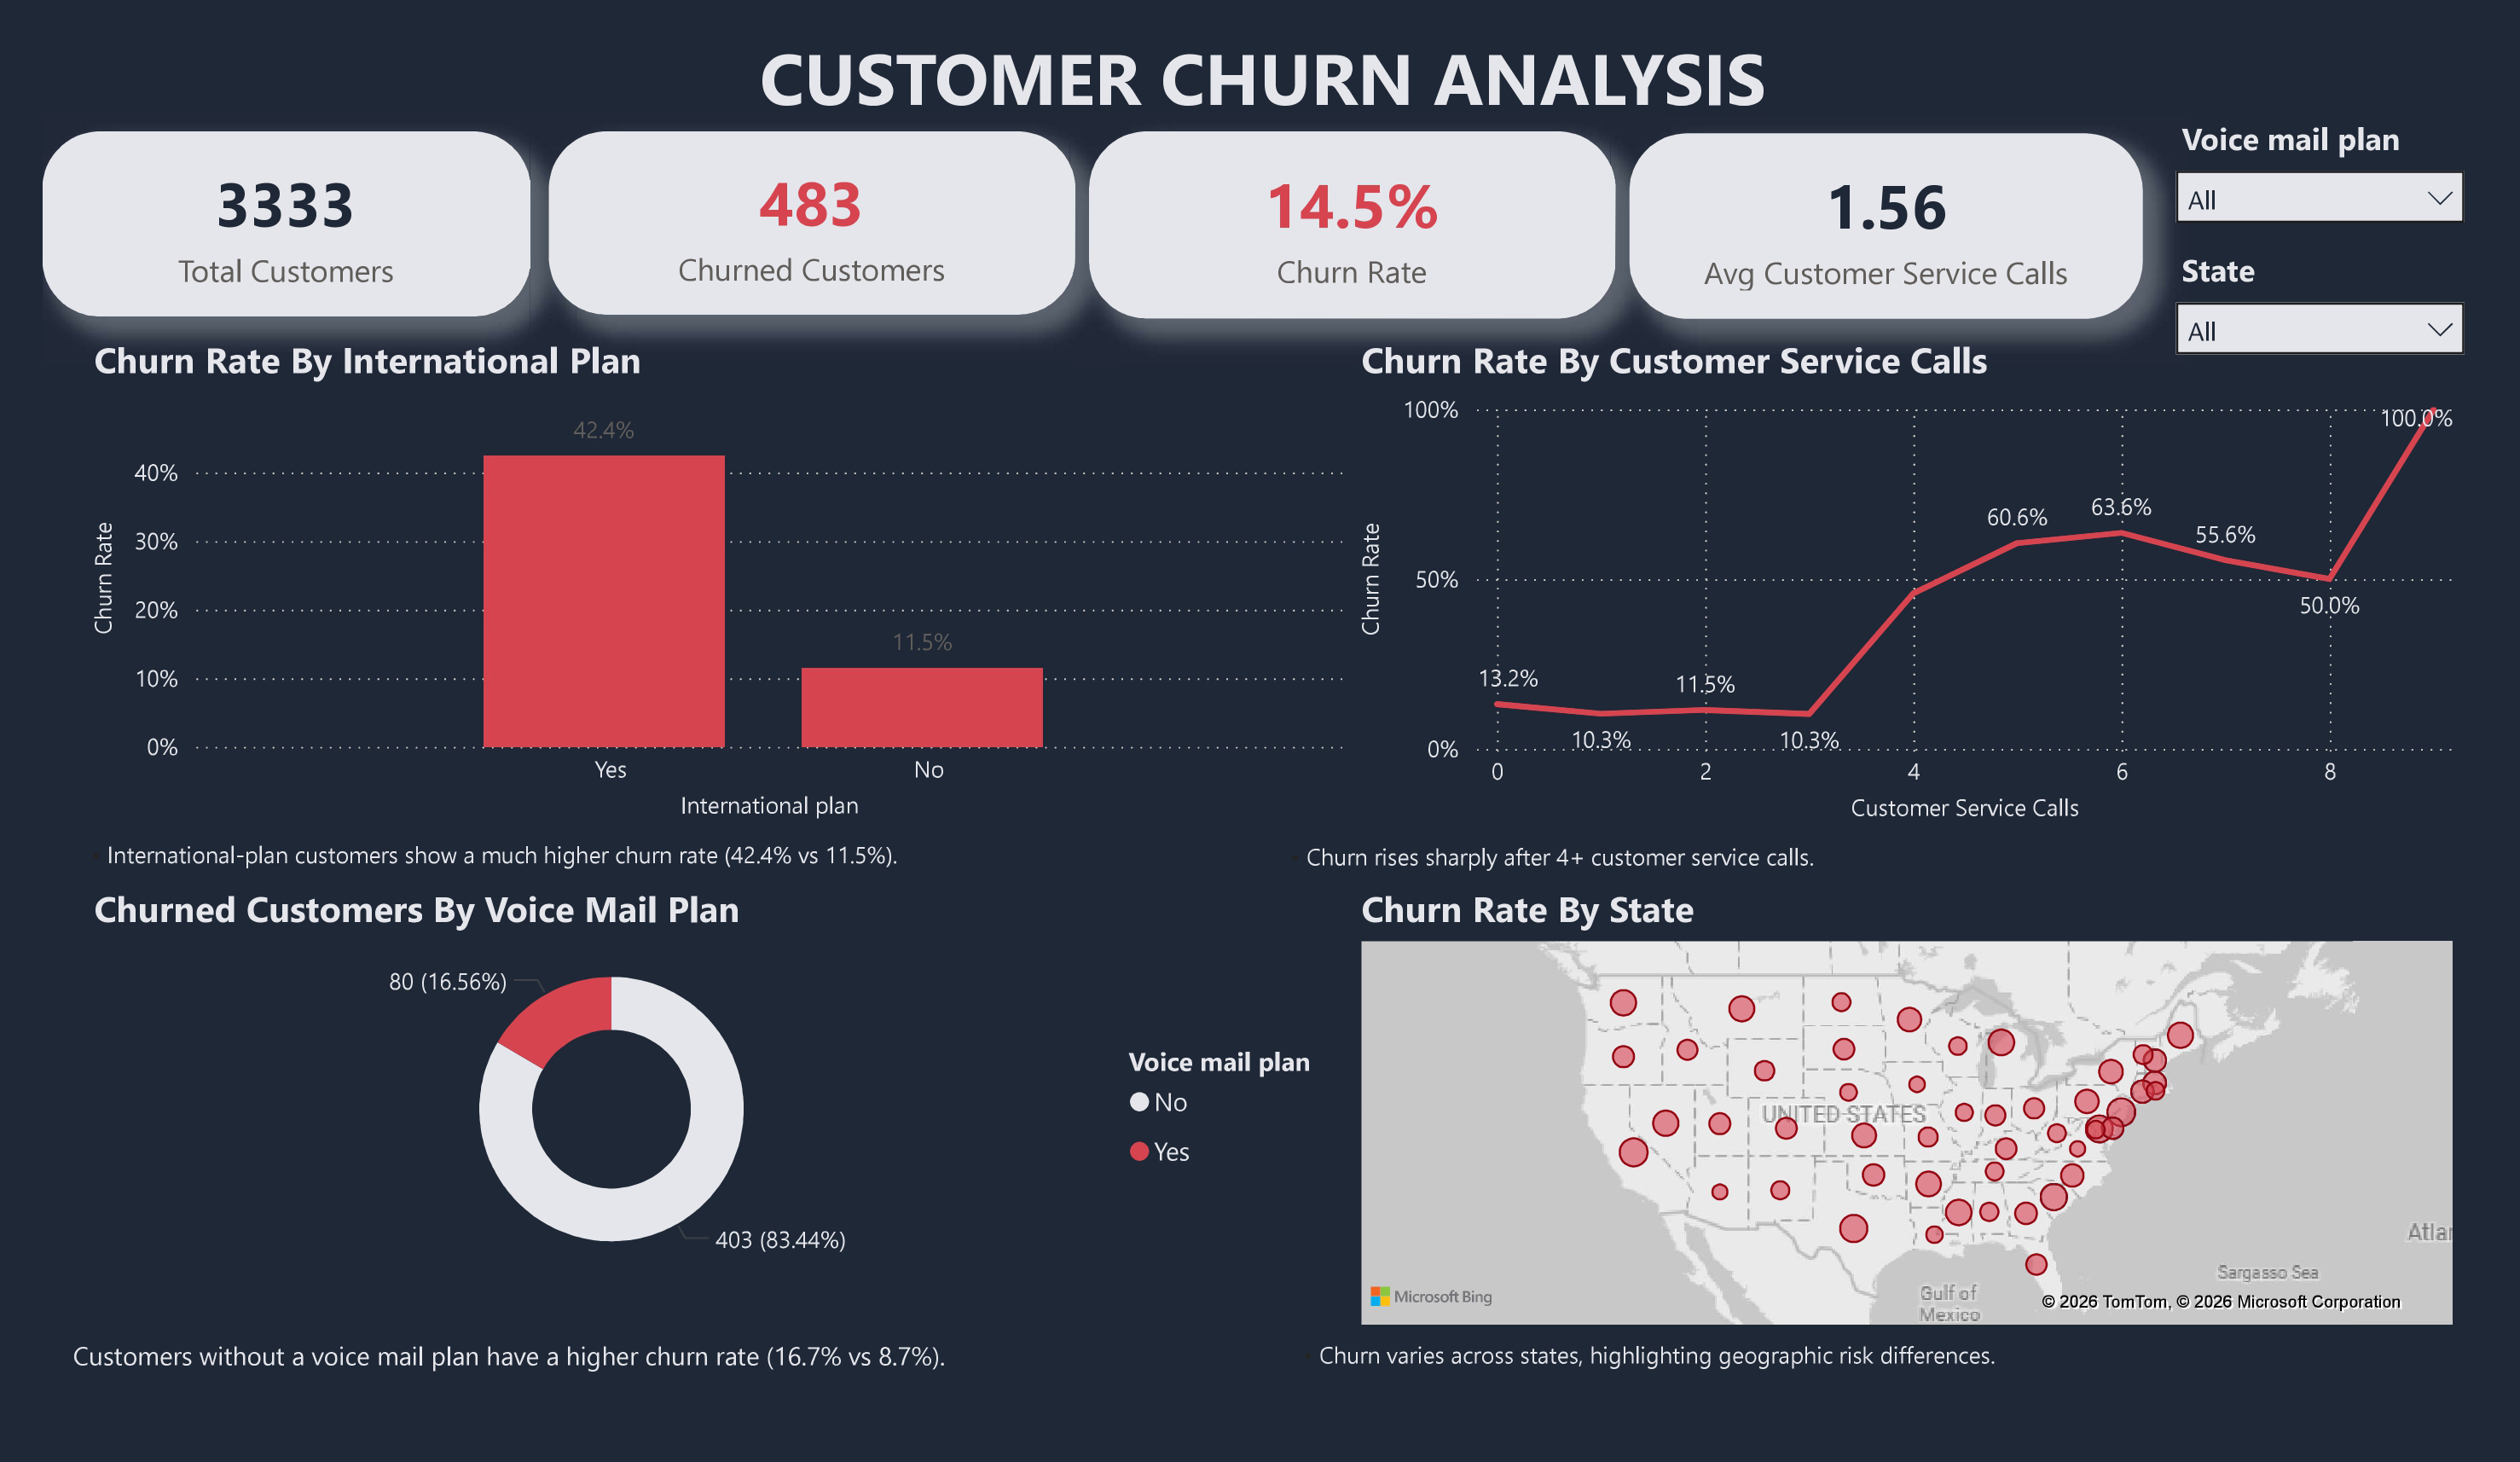

The dashboard page shown, as its layout file describes it:
{"tool":"powerbi","page":{"name":"Page 1","canvas":[1280,720],"ordinal":0},"visuals":[{"type":"card","fields":{"Values":["churn-bigml-20.Total Customers"]},"box":[0,58.9,255.6,96.7],"z":0},{"type":"card","fields":{"Values":["churn-bigml-20.Churned Customers"]},"box":[265.6,58.9,275.6,95.6],"z":1000},{"type":"card","fields":{"Values":["churn-bigml-20.Churn Rate"]},"box":[548.9,58.9,275.6,97.8],"z":2000},{"type":"card","fields":{"Values":["churn-bigml-20.Avg Customer Service Calls"]},"box":[832.2,60,268.9,96.7],"z":3000},{"type":"textbox","box":[277.8,0,724.4,58.9],"z":4000},{"type":"clusteredColumnChart","title":"Churn Rate By International Plan","fields":{"Category":["churn_data.International plan"],"Y":["churn-bigml-20.Churn Rate"]},"box":[22.2,165.6,664.4,258.9],"z":5000},{"type":"textbox","box":[11.1,424.4,530,82.2],"z":6000},{"type":"lineChart","title":"Churn Rate  By Customer Service Calls","fields":{"Category":["churn_data.Customer service calls"],"Y":["churn-bigml-20.Churn Rate"]},"box":[686.7,165.6,582.2,260],"z":7000},{"type":"textbox","box":[640,425.6,530,80],"z":8000},{"type":"donutChart","title":"Churned Customers By Voice Mail Plan","fields":{"Category":["churn_data.Voice mail plan"],"Y":["churn-bigml-20.Churned Customers"]},"box":[22.2,453.3,664.4,211.1],"z":9000},{"type":"textbox","box":[11.1,686.7,530,33.3],"z":10000},{"type":"map","title":"Churn Rate By State","fields":{"Category":["churn_data.State"],"Size":["churn-bigml-20.Churn Rate"]},"box":[686.7,453.3,582.2,235.6],"z":11000},{"type":"textbox","box":[646.7,686.7,530,33.3],"z":12000},{"type":"slicer","fields":{"Values":["churn_data.Voice mail plan"]},"box":[1108.9,46.7,171.1,78.9],"z":13000},{"type":"slicer","fields":{"Values":["churn_data.State"]},"box":[1108.9,115.6,171.1,78.9],"z":14000}]}

Visuals, with their boxes in screenshot pixels (x1, y1, x2, y2):
card - churn-bigml-20.Total Customers: crop(72, 124, 551, 305)
card - churn-bigml-20.Churned Customers: crop(570, 124, 1086, 303)
card - churn-bigml-20.Churn Rate: crop(1100, 124, 1616, 306)
card - churn-bigml-20.Avg Customer Service Calls: crop(1631, 125, 2135, 306)
textbox: crop(593, 13, 1949, 124)
"Churn Rate By International Plan" clusteredColumnChart: crop(113, 323, 1358, 809)
textbox: crop(93, 808, 1086, 962)
"Churn Rate  By Customer Service Calls" lineChart: crop(1358, 323, 2448, 810)
textbox: crop(1271, 810, 2263, 960)
"Churned Customers By Voice Mail Plan" donutChart: crop(113, 862, 1358, 1257)
textbox: crop(93, 1299, 1086, 1361)
"Churn Rate By State" map: crop(1358, 862, 2448, 1303)
textbox: crop(1283, 1299, 2276, 1361)
slicer - churn_data.Voice mail plan: crop(2149, 101, 2469, 248)
slicer - churn_data.State: crop(2149, 229, 2469, 378)
